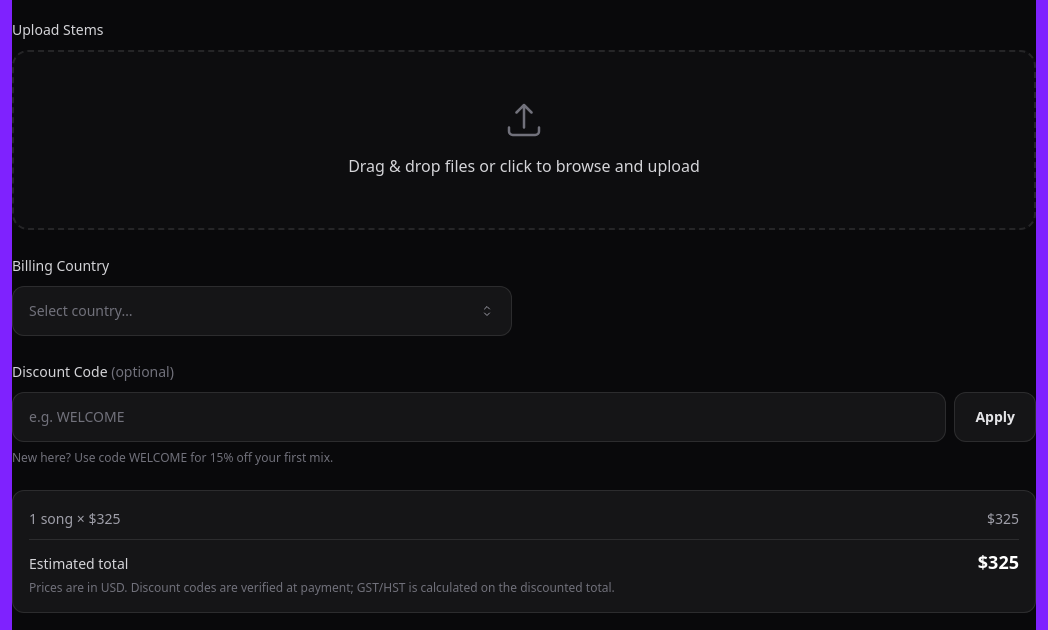
Test: NewProjectForm › reveals the province select for Canada and taxes the live quote
The image size is (1048, 630).
(page scrolled)
Expected: the field labelled "Province / Territory" is not shown
Click the button named "Billing Country" at {"x": 81, "y": 310}, box [12,286,512,336]
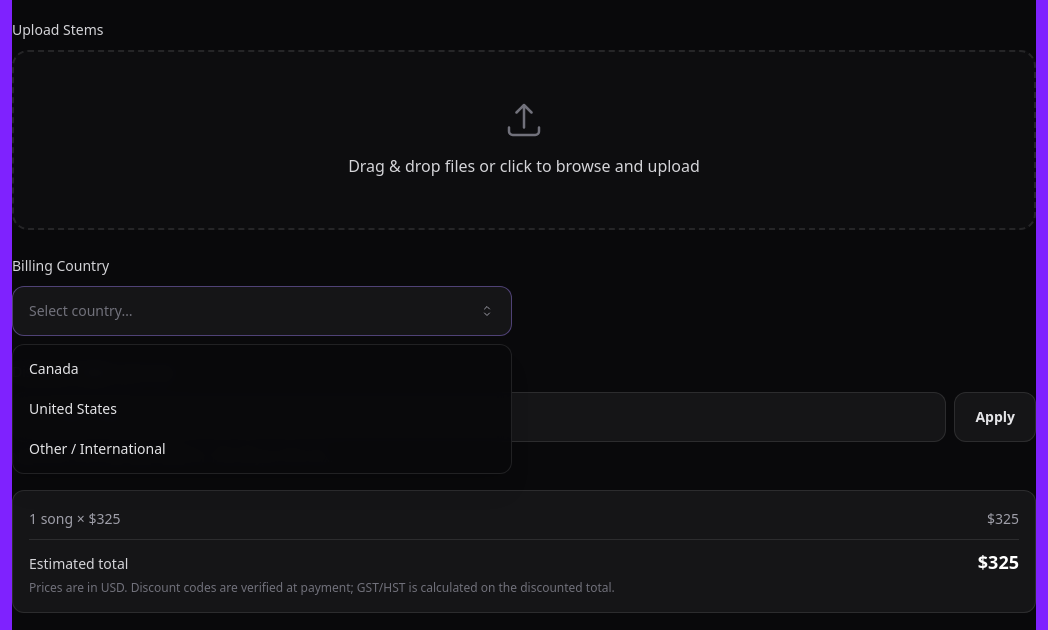
Click the option "Canada" at {"x": 54, "y": 368}, box [29,359,79,378]
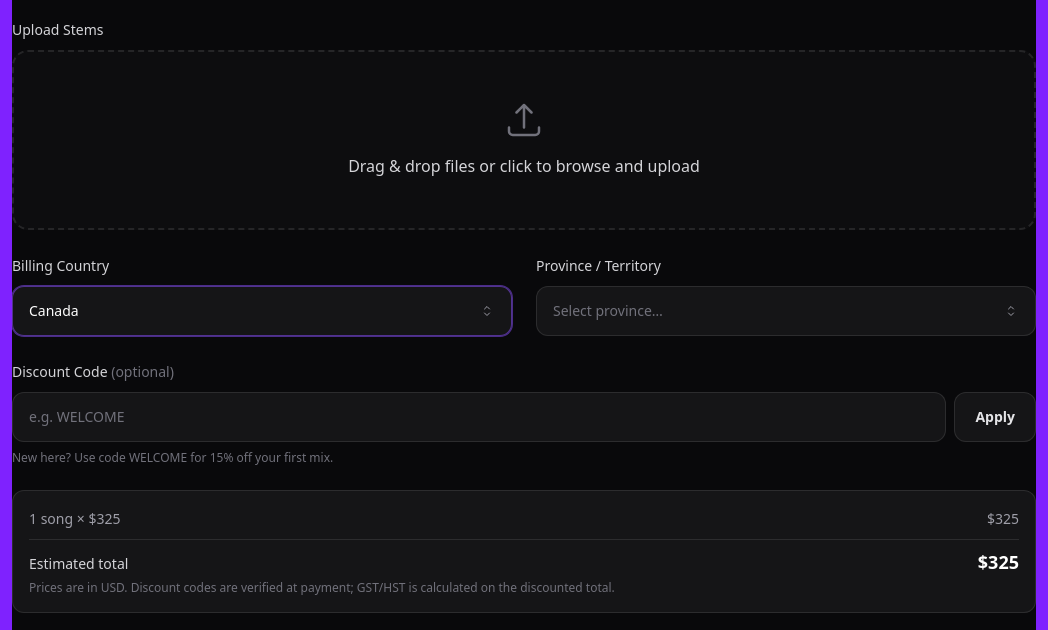
Expected: the element with test id "live-quote" does not show "HST (13%)", [12,490,1036,613]
Click the button named "Province / Territory" at {"x": 608, "y": 310}, box [536,286,1036,336]
(page scrolled)
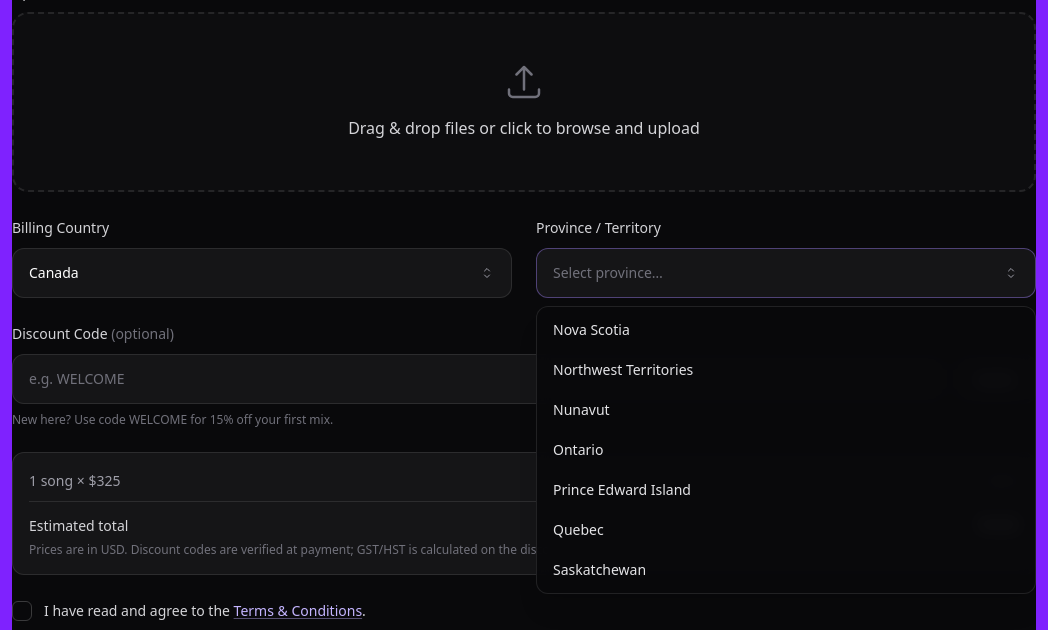
Click the option "Ontario" at {"x": 578, "y": 450}, box [553,440,603,459]
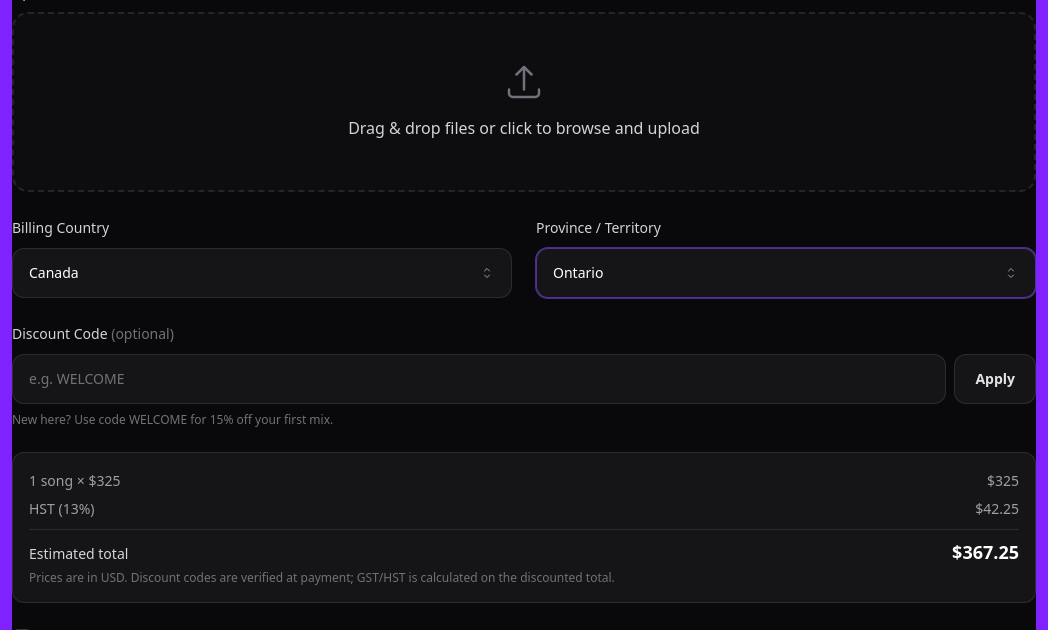
Result: the element with test id "live-quote" shows "HST (13%)" at [29,499,94,518]
Result: the element with test id "live-quote" shows "$42.25" at [975,499,1019,518]
Result: the element with test id "live-quote" shows "$367.25" at [952,540,1019,564]
Click the button named "Billing Country" at {"x": 54, "y": 272}, box [12,248,512,298]
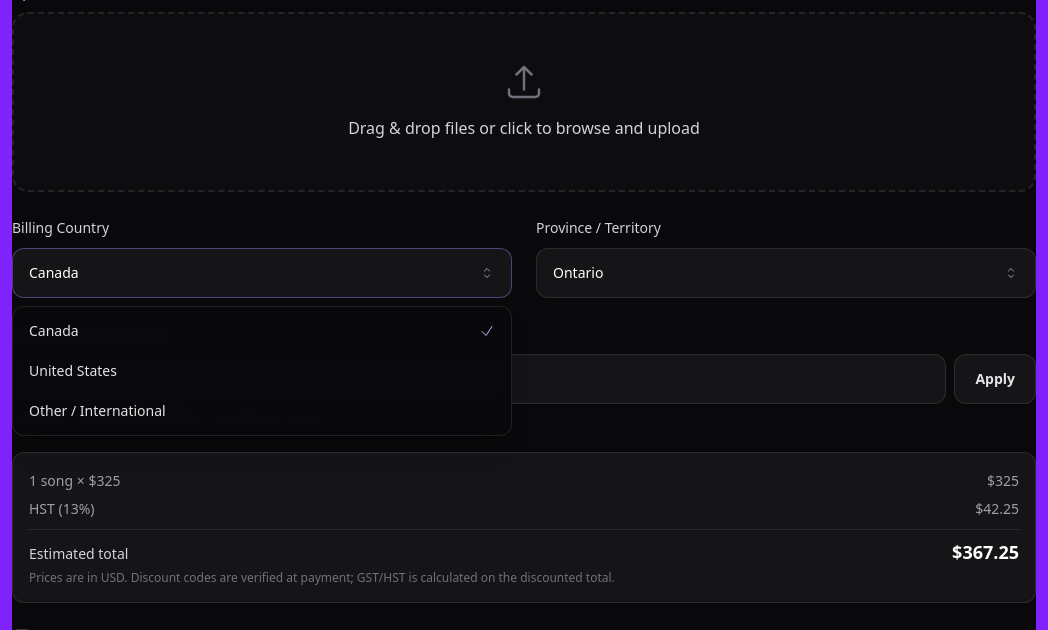
Click the option "United States" at {"x": 73, "y": 370}, box [29,361,117,380]
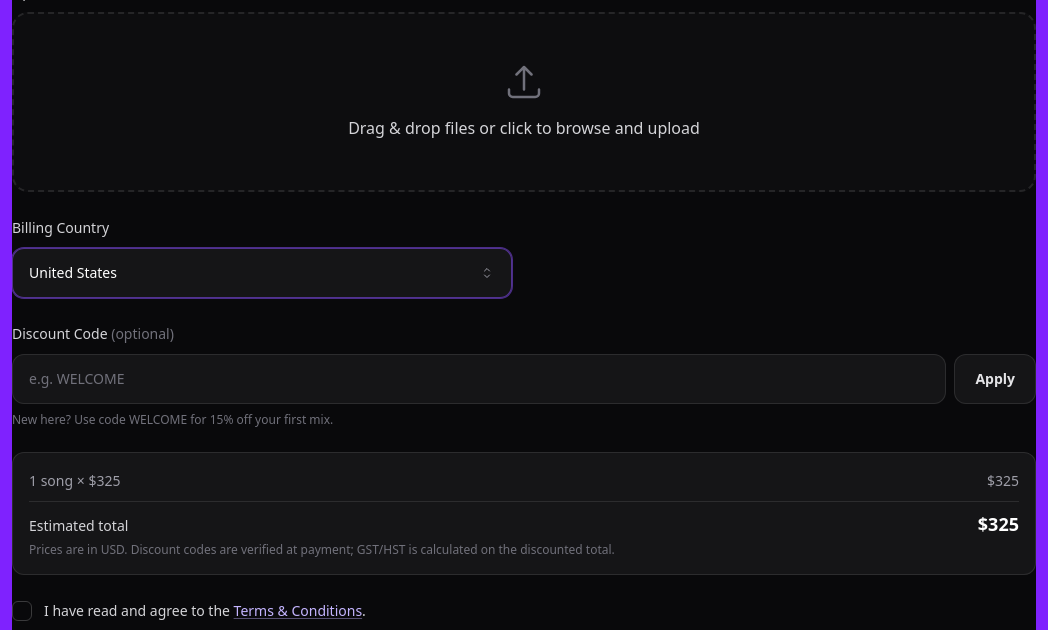
Expected: the element with test id "live-quote" shows "$325", [88,471,120,490]
Result: the element with test id "live-quote" no longer shows "HST (13%)" at [12,452,1036,575]
Result: the label labelled "Province / Territory" is gone
